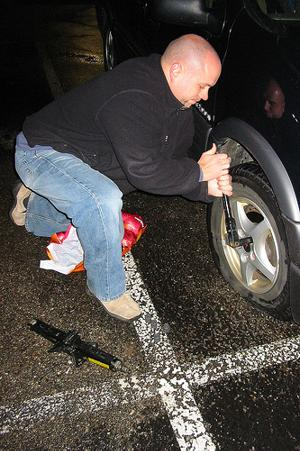person: (11, 27, 235, 325)
